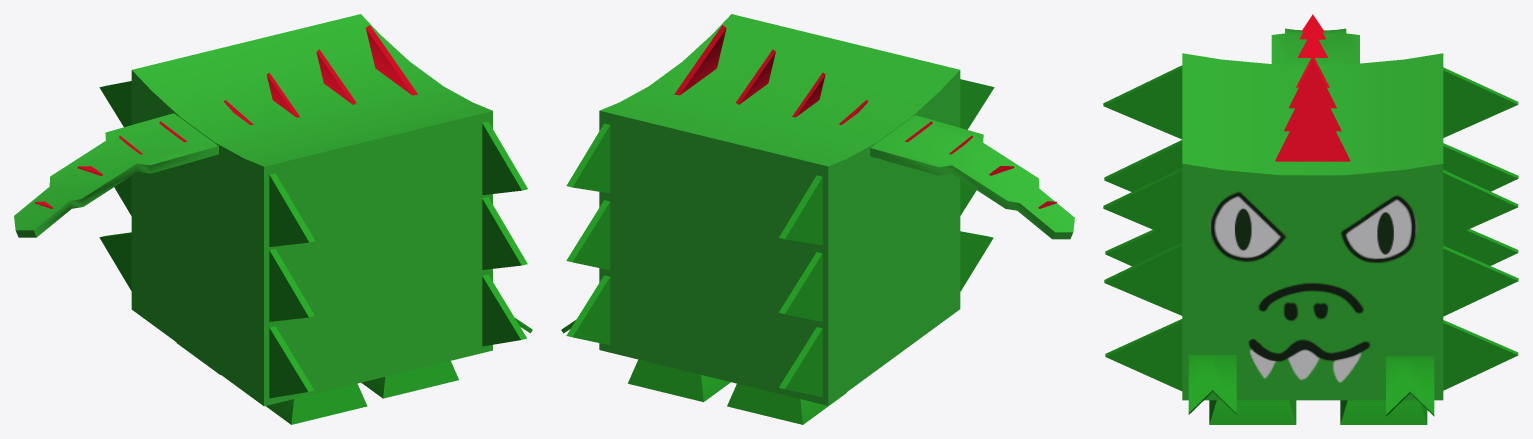
File: leg2.fbx
The picture shows the model from 3 angles, left to right: view 1: azimuth 30°, elevation 25°; view 2: azimuth 150°, elevation 25°; view 3: azimuth 270°, elevation 25°; orthographic projection.
Visible parts, largest first — view 1: Cube; view 2: Cube; view 3: Cube.
Boxes of the visible parts, x1,y1,x2,y2 form: Cube: [14, 14, 532, 424]; Cube: [561, 14, 1074, 424]; Cube: [1103, 14, 1518, 424].
Size of the model in its own units: 396 by 272 by 318.
